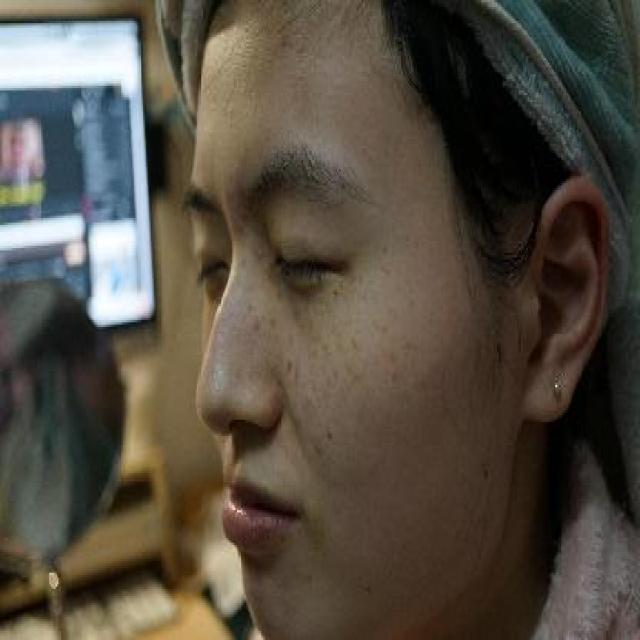whiteheads: (254, 237, 268, 264)
